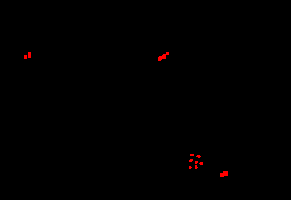Target: (158, 52, 169, 61), (220, 171, 228, 177), (28, 52, 31, 58), (196, 155, 201, 158), (24, 55, 27, 59), (189, 159, 193, 162), (199, 162, 203, 165), (195, 165, 198, 169), (195, 161, 198, 164), (189, 166, 192, 169), (190, 154, 194, 156)
